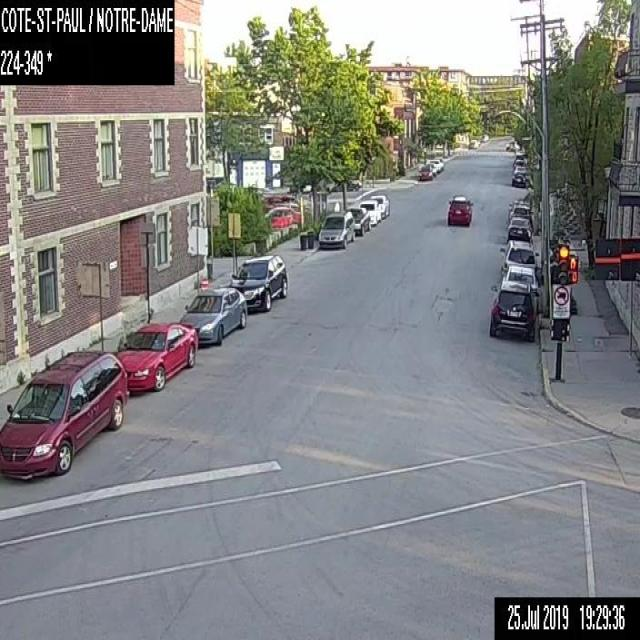vehicle: (0, 349, 128, 482), (116, 322, 198, 391), (178, 287, 246, 345), (228, 253, 287, 310), (488, 280, 539, 342), (318, 211, 354, 249), (498, 239, 538, 271), (500, 264, 538, 295), (447, 193, 473, 226), (264, 206, 304, 227), (344, 207, 370, 235), (506, 217, 532, 240), (261, 195, 301, 209), (359, 198, 380, 224), (370, 195, 389, 218), (509, 205, 532, 221), (508, 198, 531, 212), (417, 164, 432, 180), (511, 172, 526, 188), (429, 157, 443, 171), (345, 178, 361, 190), (513, 158, 526, 168), (426, 162, 436, 175), (512, 154, 523, 165), (513, 165, 526, 173), (467, 138, 477, 148), (479, 133, 486, 142)
